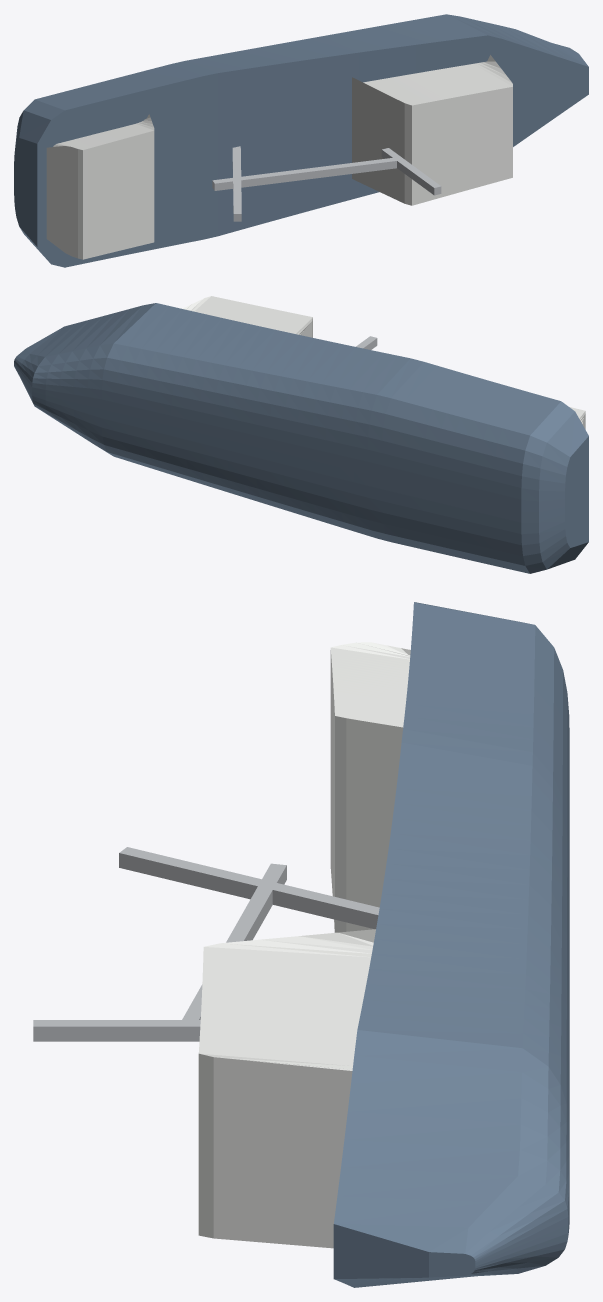
File: loft-seiner-highside.glb
3 renders of one model, top to bottom at view 1: azimuth 30°, elevation 25°; view 2: azimuth 150°, elevation 25°; view 3: azimuth 270°, elevation 25°, orthographic. The views are drawn at different scales.
Visible parts, largest first — view 1: loft-seiner-highside; view 2: loft-seiner-highside; view 3: loft-seiner-highside.
Part boxes in pixels (x1,y1,x2,y2): loft-seiner-highside: [14, 14, 588, 267]; loft-seiner-highside: [14, 296, 588, 573]; loft-seiner-highside: [33, 602, 569, 1287].
Bounding box in the file's own units: 1.84 × 0.5278 × 0.7845.
